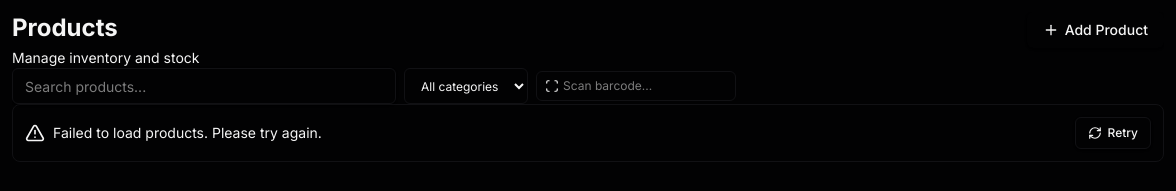
Test case: ProductsPage error state › recovers when Retry succeeds
Expected: the text "Failed to load products. Please try again." is shown, [53,123,322,143]
Click the button "Retry": (1113, 133) [1074,117,1151,149]
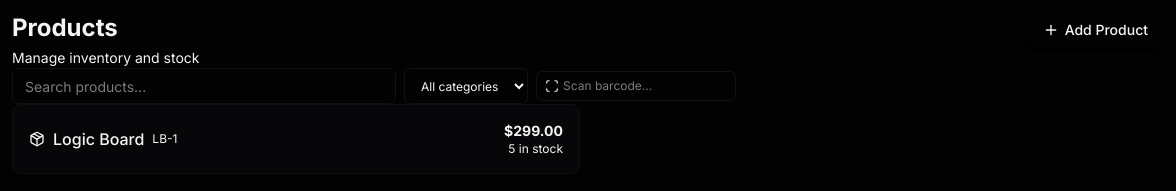
Now the text "Logic Board" is shown, box [53,127,144,151]
Now the text "Failed to load products" is gone
